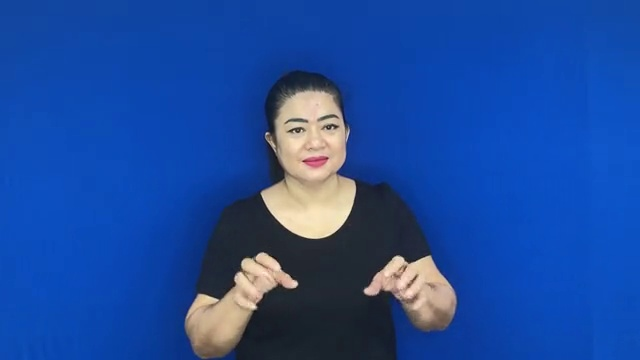egg: (218, 243, 438, 322)
